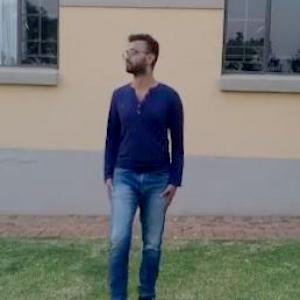follow: (93, 21, 190, 299)
